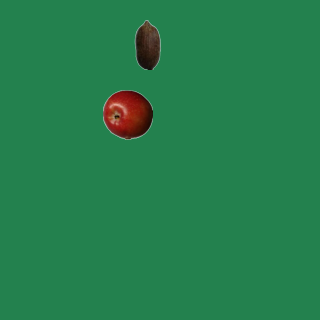Apple Braeburn: (102, 89, 152, 139)
Nut Pecan: (122, 19, 172, 69)
